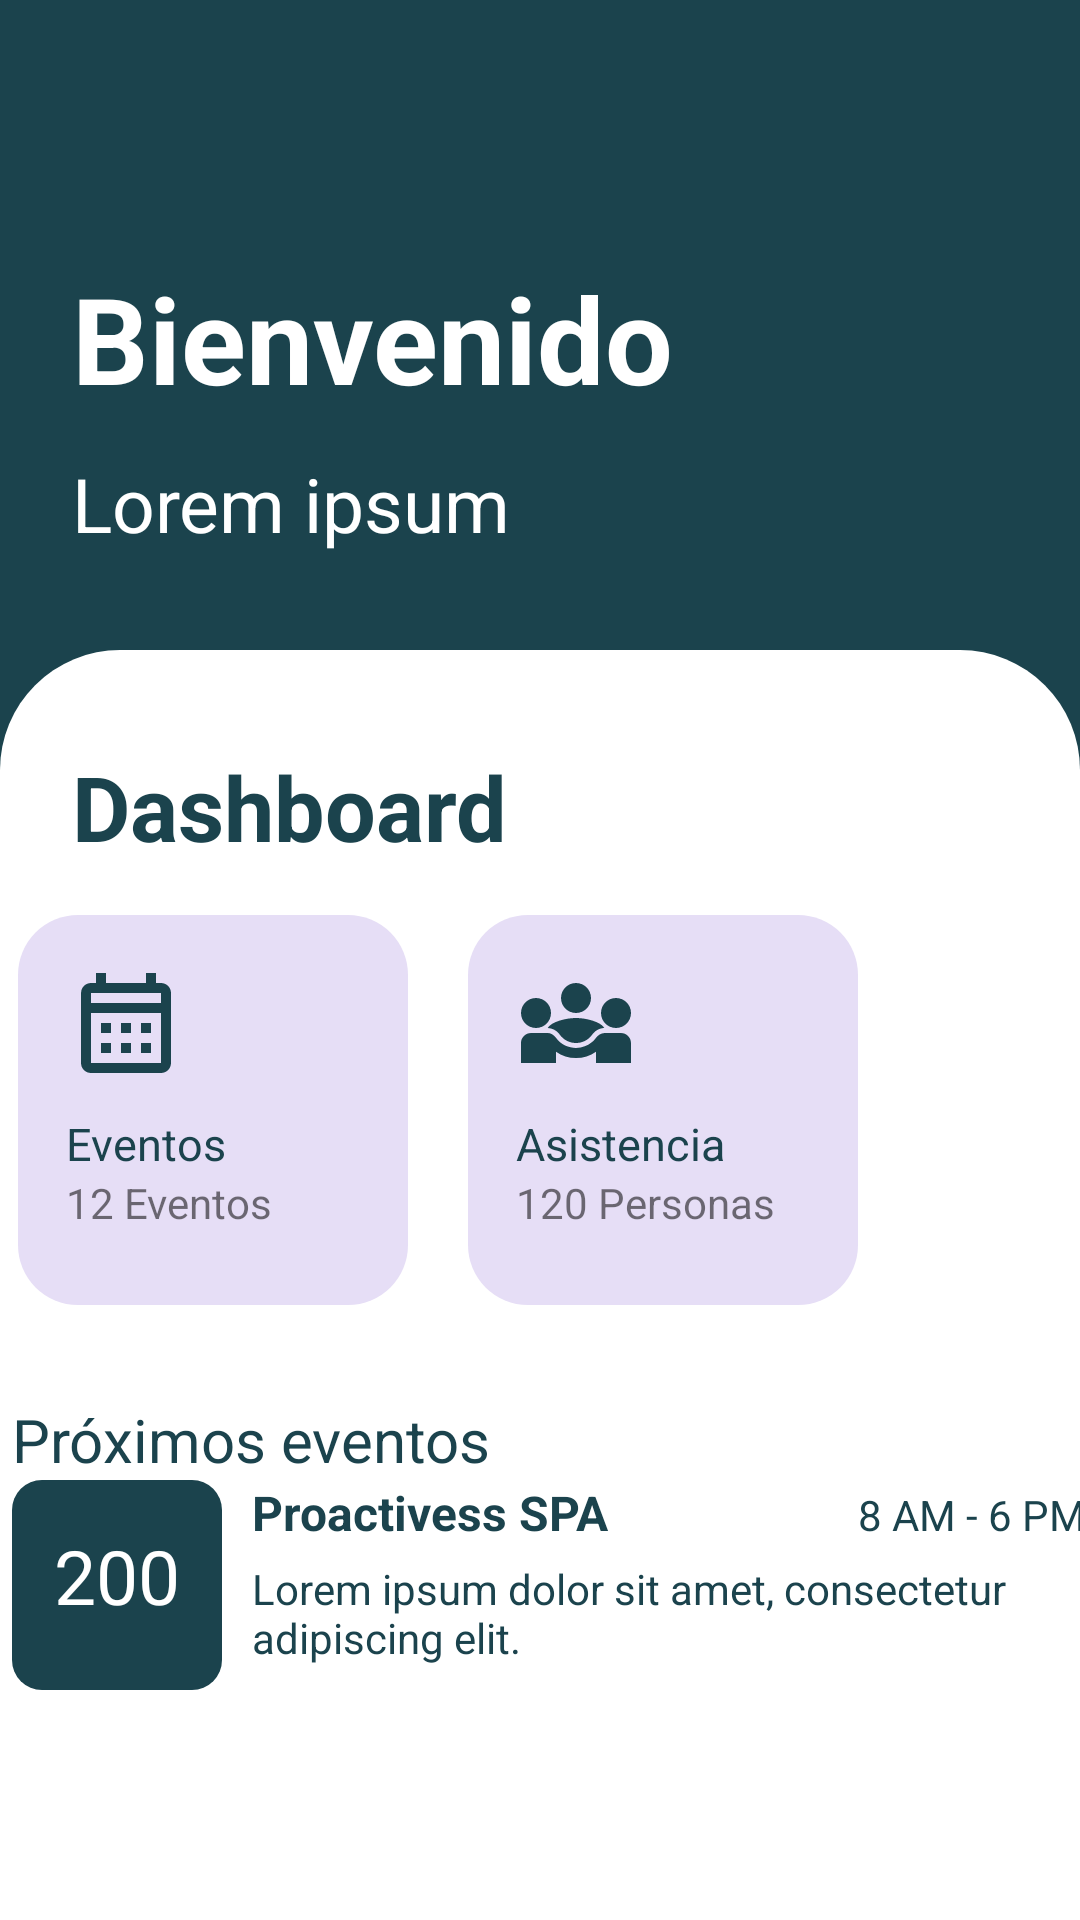

Where icons sit on this 1080px×1920px app screen, as (x1, y1, x2, y2):
calendar month: (81, 973, 171, 1073)
diversity: (521, 983, 631, 1063)
